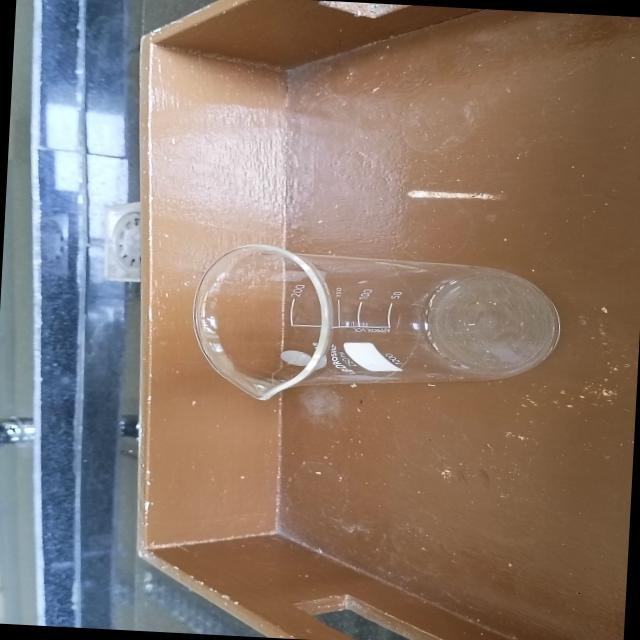beaker: (180, 236, 570, 420)
